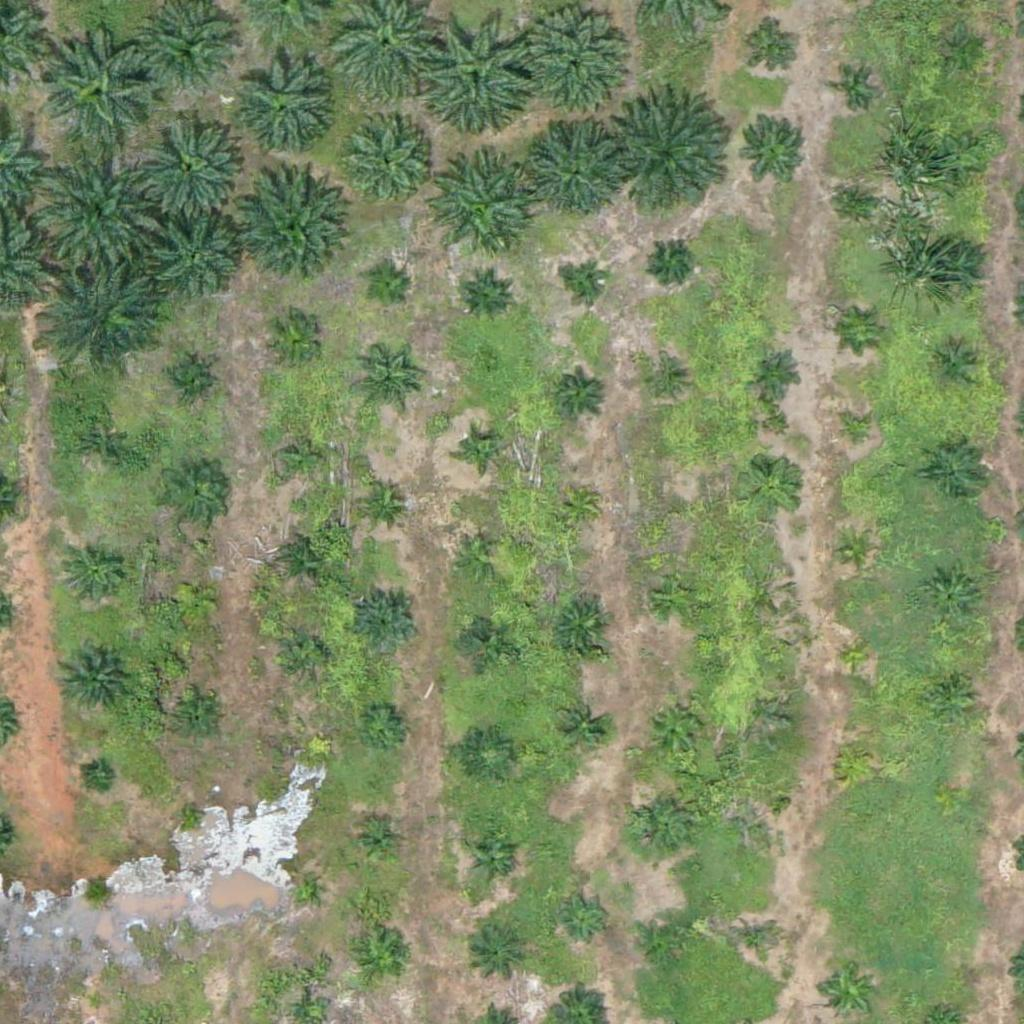Kelapa_Sawit: (416, 13, 541, 139), (34, 144, 159, 270), (42, 255, 167, 381), (612, 94, 737, 219), (233, 175, 346, 289), (513, 7, 626, 120), (134, 105, 246, 219), (44, 25, 156, 139), (422, 157, 534, 270), (523, 118, 623, 219), (337, 112, 437, 213), (230, 57, 330, 157), (152, 216, 240, 304), (56, 641, 131, 717), (736, 110, 811, 185), (469, 922, 532, 985), (354, 355, 417, 418), (260, 309, 323, 372), (627, 793, 690, 856), (926, 438, 989, 501), (356, 591, 419, 654), (922, 568, 985, 631), (927, 238, 990, 301), (271, 426, 334, 489), (164, 464, 226, 527), (64, 543, 126, 606), (551, 595, 613, 658), (645, 696, 707, 759), (741, 456, 803, 519), (68, 413, 130, 476), (463, 730, 513, 781), (931, 342, 981, 393), (461, 612, 511, 663), (281, 534, 331, 585), (750, 27, 800, 78), (938, 136, 988, 187), (357, 477, 407, 528), (282, 628, 332, 679), (161, 355, 211, 406), (170, 574, 220, 625), (358, 701, 408, 752), (556, 701, 606, 752), (730, 916, 780, 967), (642, 914, 692, 965), (560, 891, 610, 942), (468, 833, 518, 884), (461, 270, 511, 320), (357, 935, 407, 985), (555, 368, 605, 418), (925, 669, 975, 719), (751, 347, 801, 397), (651, 572, 701, 622), (454, 532, 504, 582), (362, 265, 412, 315), (176, 695, 226, 745), (353, 818, 403, 868), (845, 312, 883, 350), (652, 240, 690, 278), (945, 29, 983, 67), (838, 413, 876, 451), (836, 532, 874, 570), (838, 639, 876, 677), (834, 739, 872, 777), (560, 486, 598, 524), (463, 431, 501, 469), (569, 266, 606, 304), (646, 364, 683, 402), (658, 493, 695, 531), (741, 791, 778, 829), (836, 74, 873, 111), (840, 184, 877, 221), (85, 764, 110, 790), (290, 875, 315, 900), (178, 802, 203, 827), (84, 991, 109, 1016)
